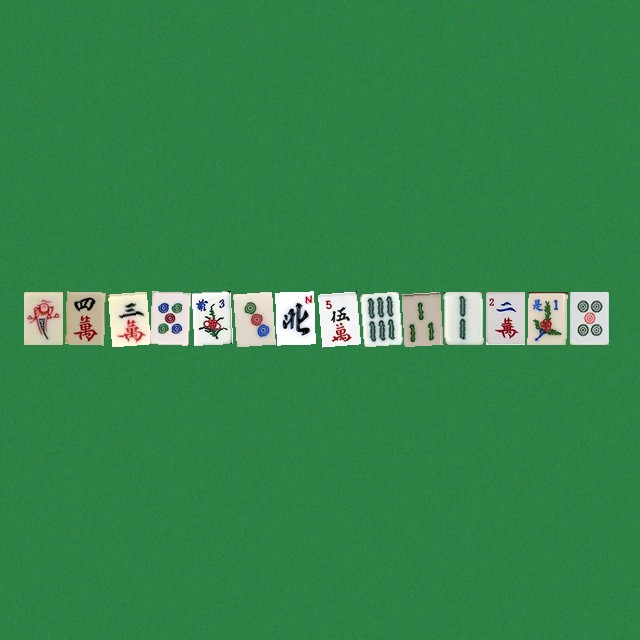tile: (23, 291, 62, 344), (65, 291, 104, 344), (107, 291, 146, 344), (149, 291, 188, 344), (191, 291, 230, 344), (233, 291, 272, 344), (275, 291, 314, 344), (317, 291, 356, 344), (359, 291, 398, 344), (401, 291, 440, 344), (443, 291, 482, 344), (485, 291, 524, 344), (527, 291, 566, 344), (569, 291, 608, 344)
